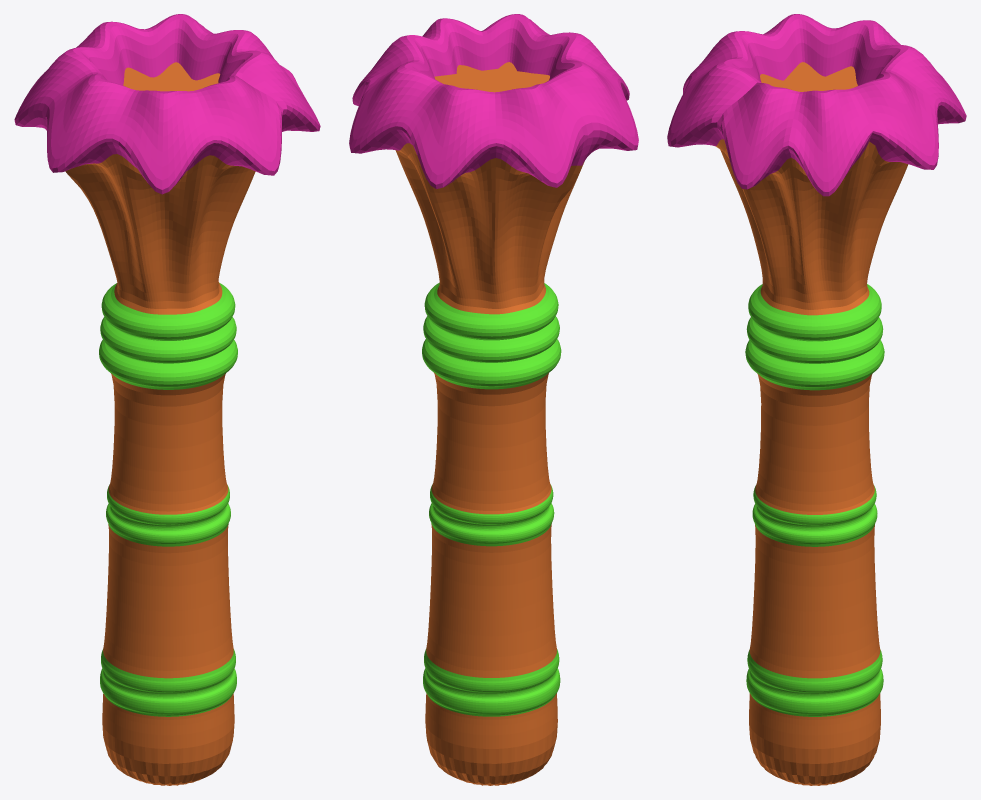
The model's file is F_filar 1.fbx.
3 renders of one model, left to right at view 1: azimuth 30°, elevation 25°; view 2: azimuth 150°, elevation 25°; view 3: azimuth 270°, elevation 25°, orthographic.
Parts seen in each view (by area): view 1: F_filar 1; view 2: F_filar 1; view 3: F_filar 1.
Boxes of the visible parts, box(x1,y1,x2,y2) form: F_filar 1: box(14, 14, 320, 785); F_filar 1: box(349, 14, 638, 785); F_filar 1: box(667, 14, 966, 785).
Bounding box in the file's own units: 384 × 1013 × 379.
